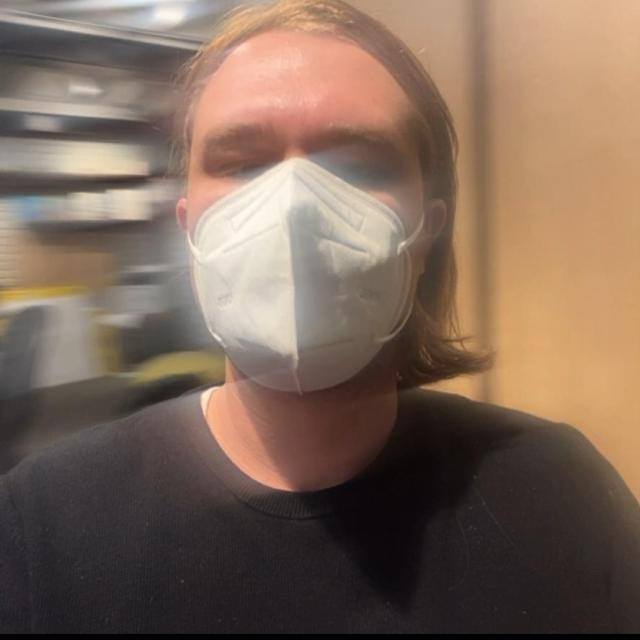Mask: (188, 164, 424, 392)
NO-Hardhat: (186, 0, 420, 107)
NO-Safety Vest: (9, 403, 613, 640)
Person: (0, 0, 640, 634)
